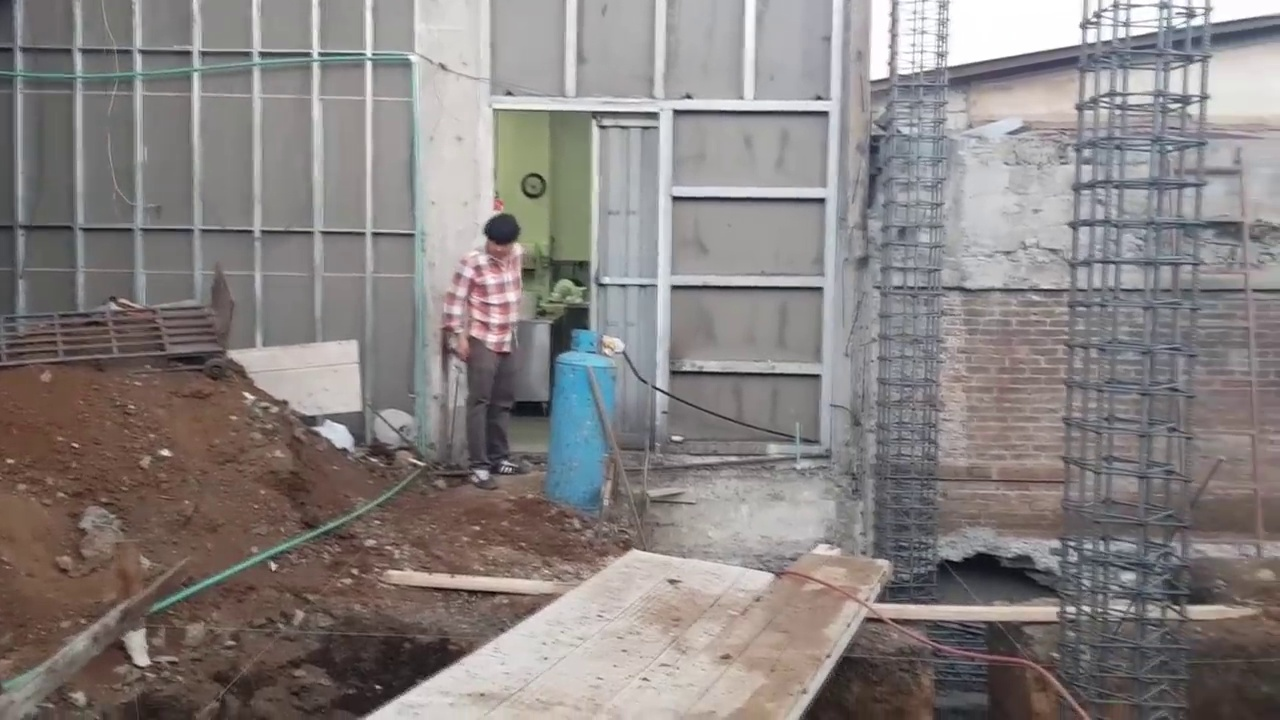helmet-off: (476, 212, 518, 265)
person: (444, 210, 531, 494)
